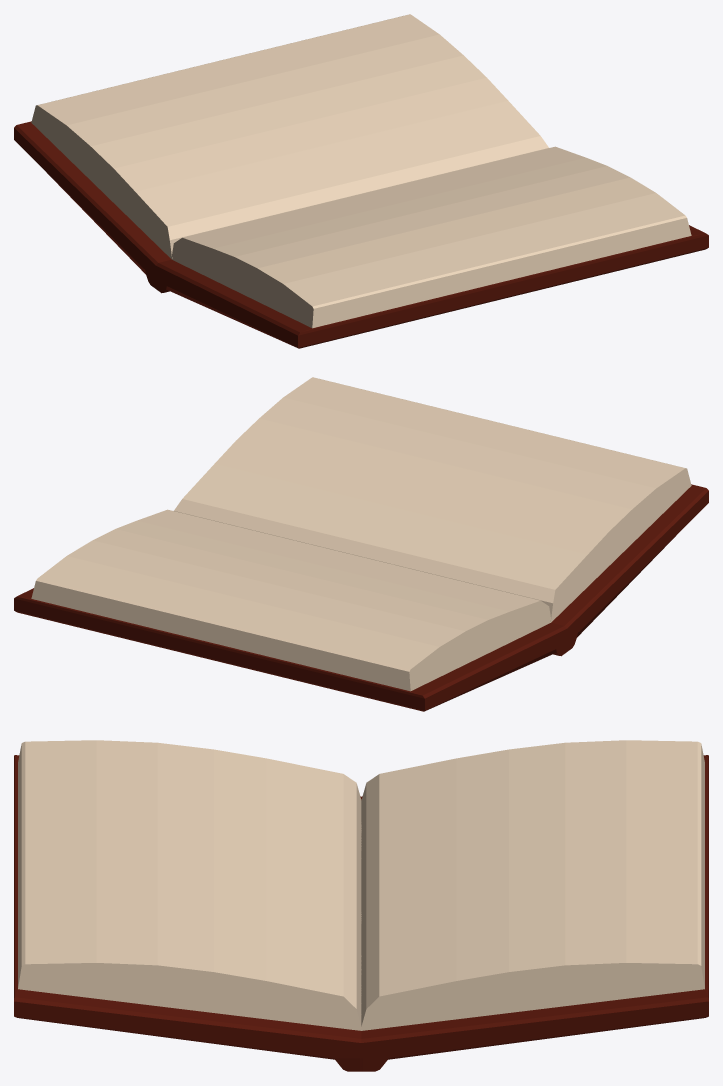
The model's file is spellbook2.fbx.
The picture shows the model from 3 angles, top to bottom: view 1: azimuth 30°, elevation 25°; view 2: azimuth 150°, elevation 25°; view 3: azimuth 270°, elevation 25°; orthographic projection. The views are drawn at different scales.
Visible parts, largest first — view 1: Spellbook.001, Spellbook; view 2: Spellbook.001, Spellbook; view 3: Spellbook.001, Spellbook.
Part boxes in pixels (x1,y1,x2,y2): Spellbook.001: (31, 14, 691, 328); Spellbook: (14, 121, 708, 348); Spellbook.001: (31, 377, 691, 691); Spellbook: (14, 484, 708, 711); Spellbook.001: (18, 740, 704, 1030); Spellbook: (14, 755, 708, 1071).
Size of the model in its own units: 200 by 37.16 by 240.
